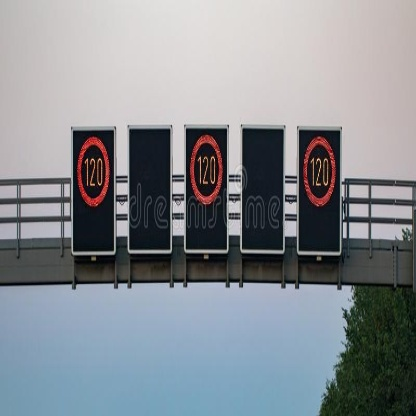limit2: (189, 132, 227, 207), (301, 133, 339, 208), (75, 134, 111, 210)
